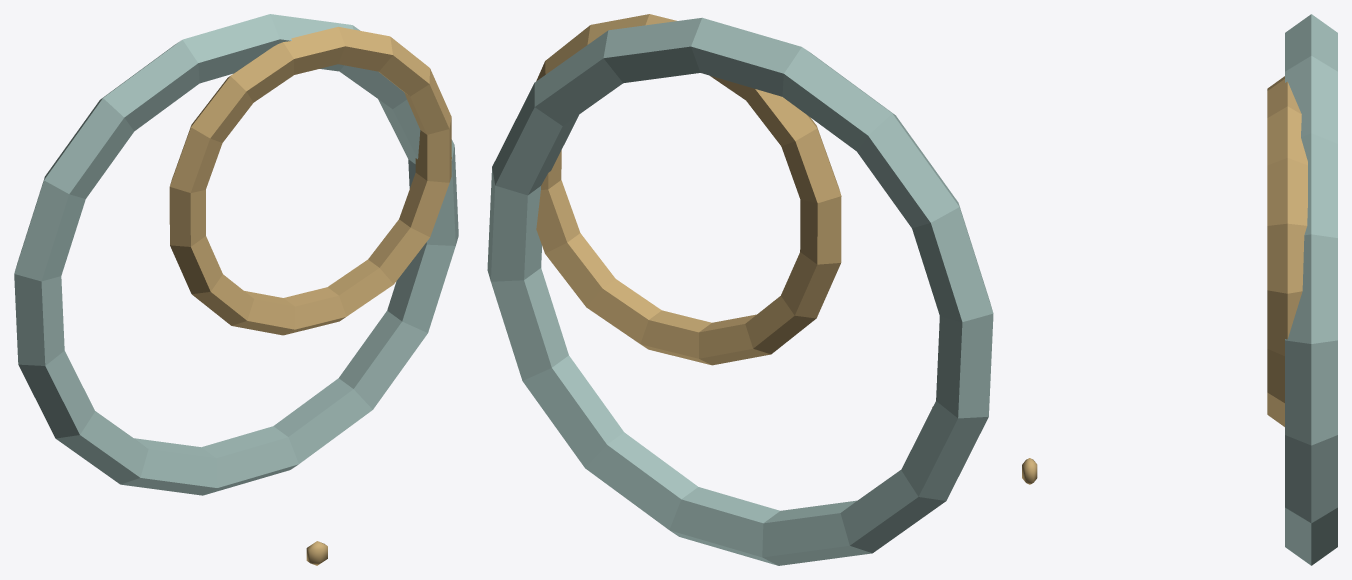
The picture shows the model from 3 angles, left to right: view 1: azimuth 30°, elevation 25°; view 2: azimuth 150°, elevation 25°; view 3: azimuth 270°, elevation 25°; orthographic projection. The views are drawn at different scales.
Visible parts, largest first — view 1: g_s36; view 2: g_s36; view 3: g_s36.
Boxes of the visible parts, bbox=[...] form: g_s36: bbox=[14, 14, 458, 565]; g_s36: bbox=[487, 14, 993, 565]; g_s36: bbox=[1022, 14, 1337, 565].
Bounding box in the file's own units: 0.3159 × 0.3159 × 0.1793.
